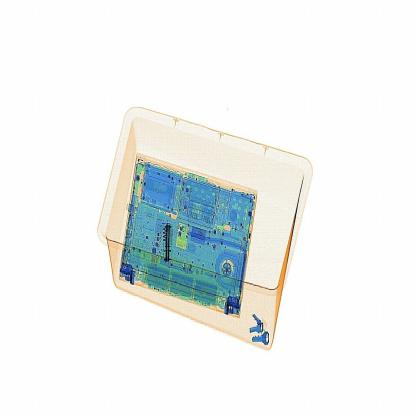scissors: (160, 221, 176, 268)
